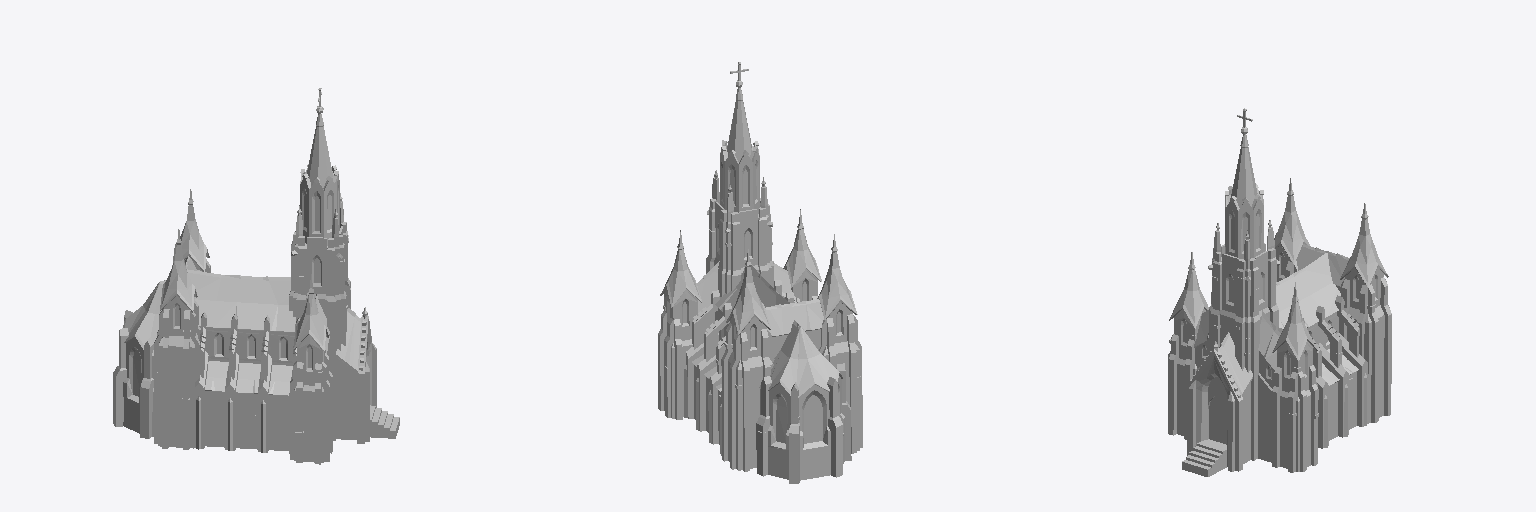
Rendered from church.obj.
3 views of the same model, side by side, from view 1: azimuth 30°, elevation 25°; view 2: azimuth 150°, elevation 25°; view 3: azimuth 270°, elevation 25° (orthographic).
Visible parts, largest first — view 1: DrawCall23, DrawCall33, DrawCall42; view 2: DrawCall23, DrawCall33, DrawCall42; view 3: DrawCall23, DrawCall33, DrawCall42.
Part boxes in pixels (x1,y1,x2,y2): DrawCall23: (113,164,399,464); DrawCall33: (120,126,360,395); DrawCall42: (133,193,331,424); DrawCall23: (658,140,862,483); DrawCall33: (664,101,857,397); DrawCall42: (683,166,822,443); DrawCall23: (1168,184,1391,476); DrawCall33: (1169,147,1387,395); DrawCall42: (1181,214,1380,430).
Size of the model in its own units: 1836 by 2758 by 1656.